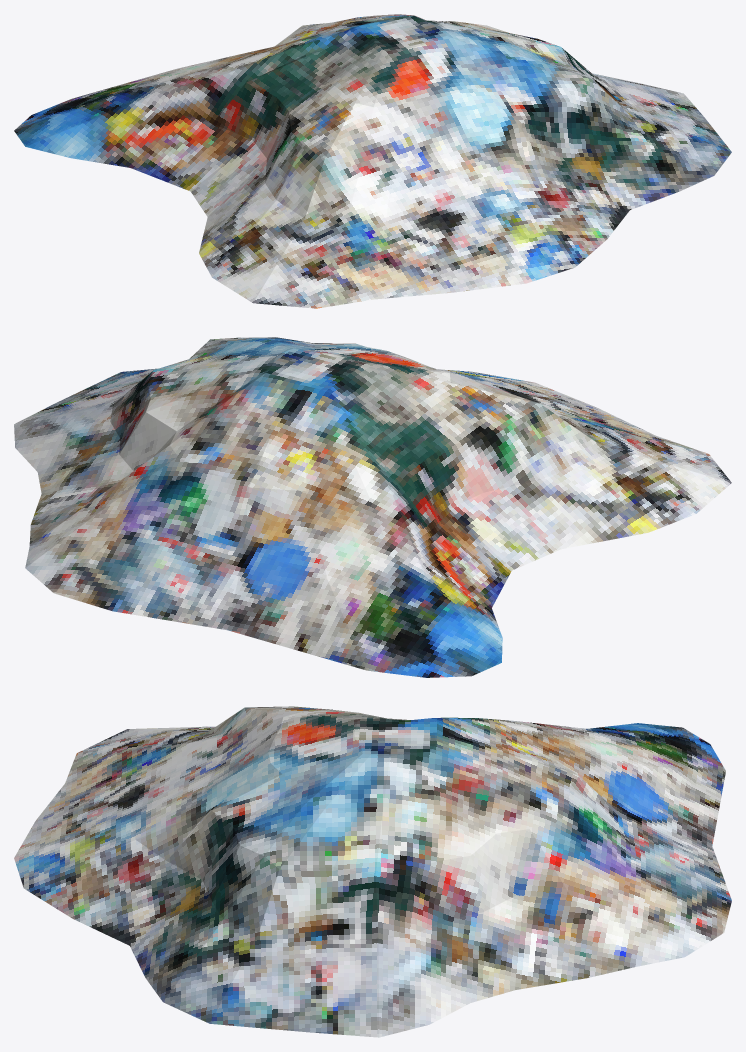
File: TrashPile.glb
3 views of the same model, one above another, from view 1: azimuth 30°, elevation 25°; view 2: azimuth 150°, elevation 25°; view 3: azimuth 270°, elevation 25° (orthographic). The views are drawn at different scales.
Visible parts, largest first — view 1: Cube; view 2: Cube; view 3: Cube.
Boxes of the visible parts, left/top/right/bottom form: Cube: left=14, top=14, right=731, bottom=308; Cube: left=14, top=337, right=731, bottom=677; Cube: left=14, top=706, right=731, bottom=1037.
Bounding box in the file's own units: 7.37 × 1.57 × 7.11.
1 material, 1 textured.
